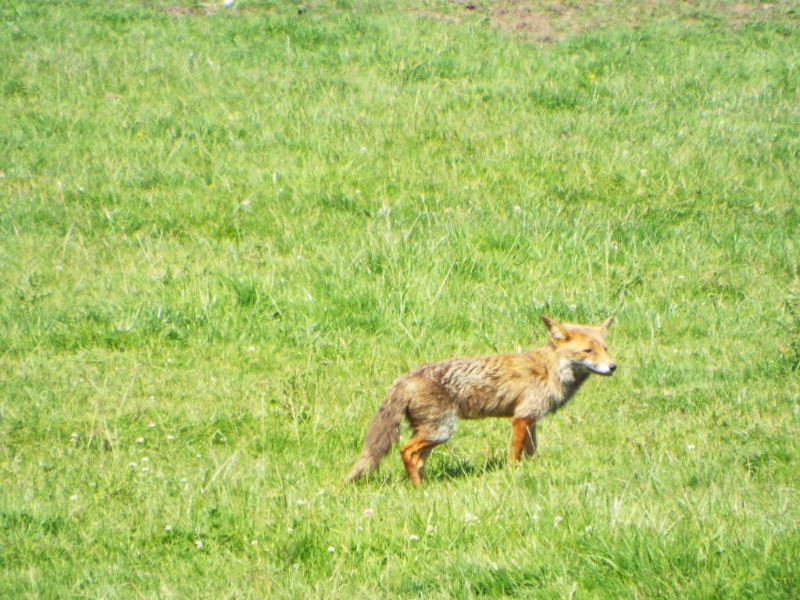fox: (335, 307, 628, 496)
